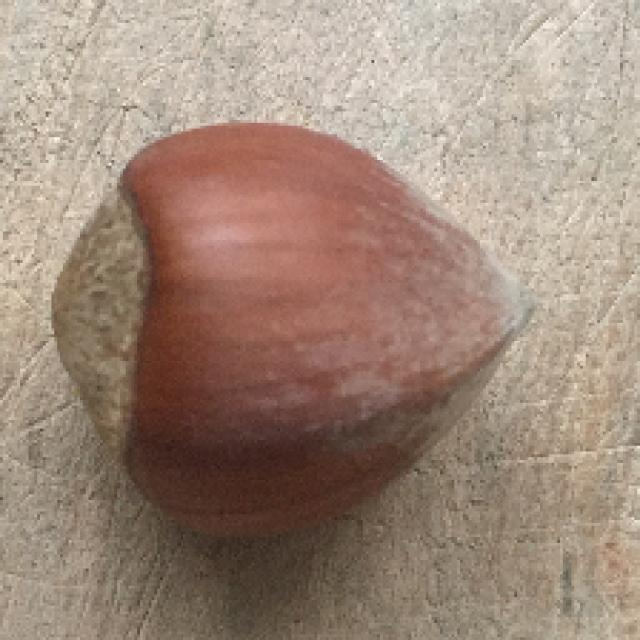qualityHazelnut: (51, 121, 528, 539)
